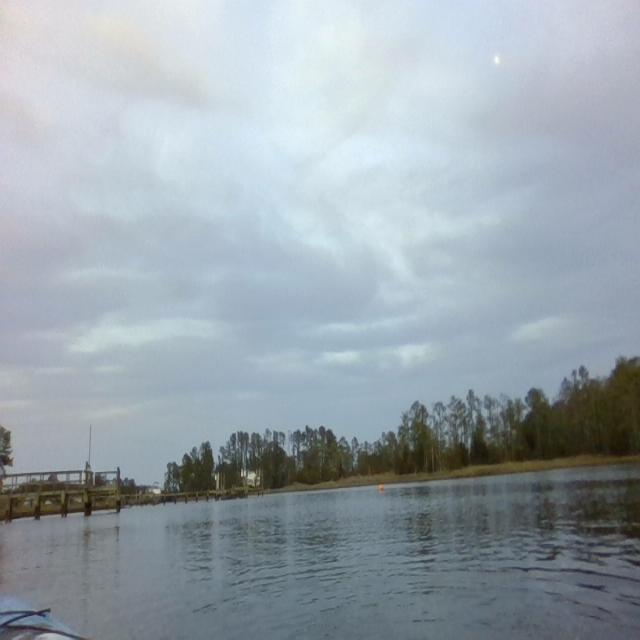Buoy: (378, 482, 384, 494)
